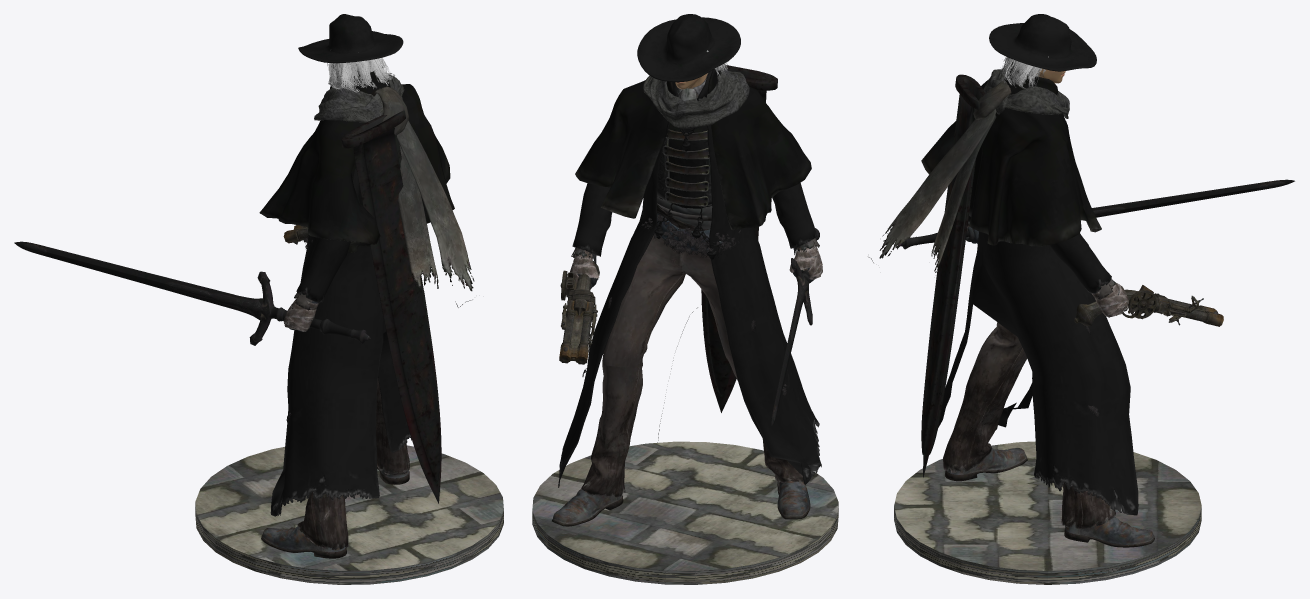
Rendered from ludwigs-uncanny-holy-blade-hunter.glb.
3 renders of one model, left to right at view 1: azimuth 30°, elevation 25°; view 2: azimuth 150°, elevation 25°; view 3: azimuth 270°, elevation 25°, orthographic.
Parts seen in each view (by area): view 1: 17-BD.obj, 82-Cylinder.obj, 97-WP_A_1030_Sheath.obj, 75-LG.obj, 4-WP_A_1030.obj, 66-HD.obj, 45-bb_45_0, 59-AM.obj; view 2: 17-BD.obj, 82-Cylinder.obj, 75-LG.obj, 66-HD.obj, 3-WP_A_2510.obj, 97-WP_A_1030_Sheath.obj, 4-WP_A_1030.obj, 59-AM.obj; view 3: 17-BD.obj, 82-Cylinder.obj, 75-LG.obj, 97-WP_A_1030_Sheath.obj, 66-HD.obj, 3-WP_A_2510.obj, 4-WP_A_1030.obj, 59-AM.obj, 45-bb_45_0.
Boxes of the visible parts, bbox=[...] form: 17-BD.obj: bbox=[259, 70, 474, 516]; 82-Cylinder.obj: bbox=[195, 445, 503, 584]; 97-WP_A_1030_Sheath.obj: bbox=[341, 110, 441, 503]; 75-LG.obj: bbox=[261, 378, 409, 558]; 4-WP_A_1030.obj: bbox=[14, 241, 370, 345]; 66-HD.obj: bbox=[298, 14, 403, 63]; 45-bb_45_0: bbox=[327, 50, 394, 92]; 59-AM.obj: bbox=[283, 298, 319, 331]; 17-BD.obj: bbox=[558, 67, 821, 487]; 82-Cylinder.obj: bbox=[532, 441, 838, 584]; 75-LG.obj: bbox=[551, 235, 810, 526]; 66-HD.obj: bbox=[637, 14, 740, 82]; 3-WP_A_2510.obj: bbox=[559, 261, 599, 364]; 97-WP_A_1030_Sheath.obj: bbox=[701, 65, 777, 412]; 4-WP_A_1030.obj: bbox=[771, 228, 819, 425]; 59-AM.obj: bbox=[570, 242, 822, 288]; 17-BD.obj: bbox=[867, 61, 1138, 515]; 82-Cylinder.obj: bbox=[894, 441, 1201, 584]; 75-LG.obj: bbox=[943, 322, 1154, 547]; 97-WP_A_1030_Sheath.obj: bbox=[921, 74, 984, 477]; 66-HD.obj: bbox=[989, 14, 1096, 71]; 3-WP_A_2510.obj: bbox=[1074, 285, 1223, 326]; 4-WP_A_1030.obj: bbox=[900, 179, 1294, 249]; 59-AM.obj: bbox=[966, 225, 1128, 317]; 45-bb_45_0: bbox=[1000, 56, 1048, 89].
Bounding box in the file's own units: 1.29 × 1.8 × 1.39.
Materials: 12 (12 with a texture image).
